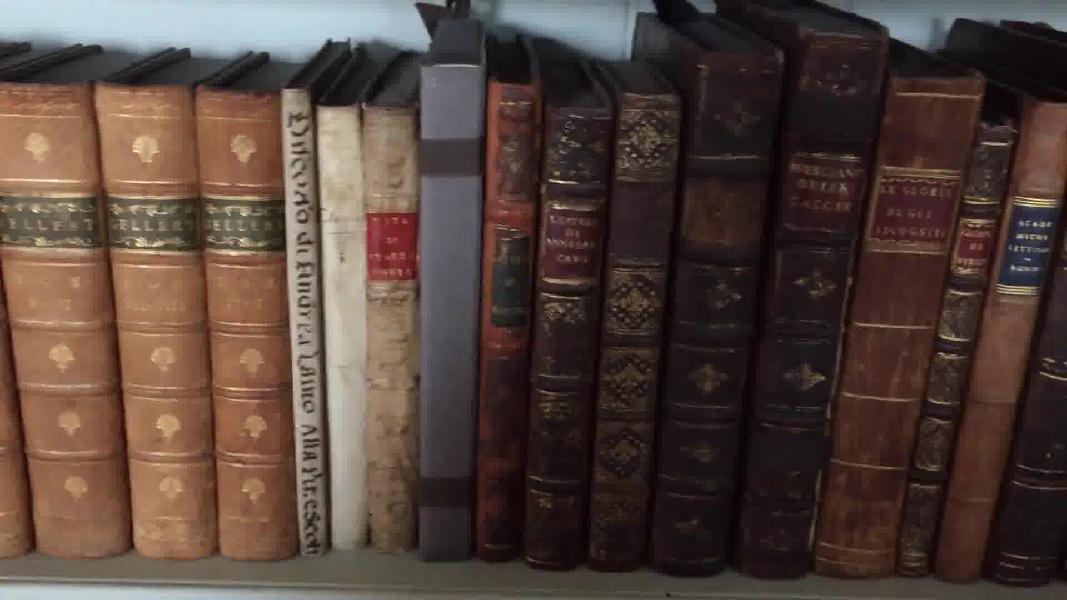Aa6-24: (275, 77, 329, 558)
Aa6-25: (316, 86, 378, 551)
Aa6-26: (359, 90, 424, 559)
Aa6-27: (415, 39, 482, 559)
Aa6-28: (473, 67, 540, 557)
Aa6-29: (521, 90, 611, 574)
Aa6-30: (589, 85, 681, 569)
Aa6-31: (652, 28, 783, 598)
Aa6-32: (724, 2, 888, 584)
Aa6-33: (808, 50, 980, 600)
Aa6-34: (897, 90, 1017, 598)
Aa6-35: (932, 85, 1065, 582)
